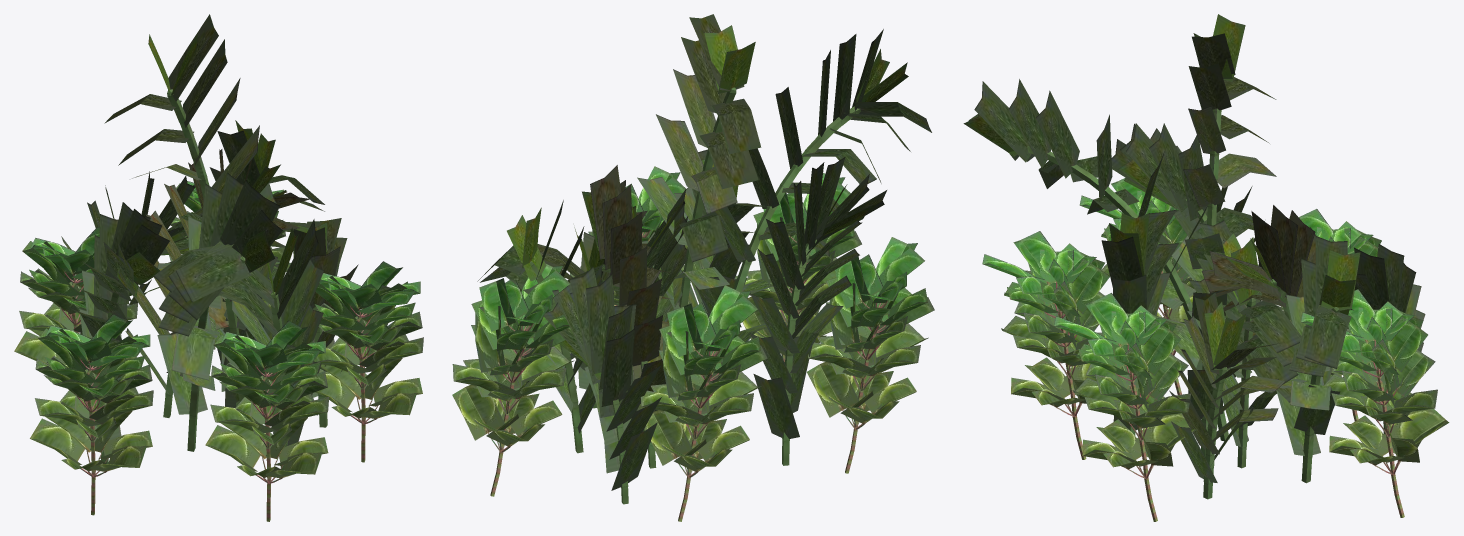
File: plantas9.fbx
The picture shows the model from 3 angles, left to right: view 1: azimuth 30°, elevation 25°; view 2: azimuth 150°, elevation 25°; view 3: azimuth 270°, elevation 25°; orthographic projection. The views are drawn at different scales.
Visible parts, largest first — view 1: plantas9; view 2: plantas9; view 3: plantas9.
Boxes of the visible parts, bbox=[...] form: plantas9: bbox=[14, 14, 423, 521]; plantas9: bbox=[452, 14, 934, 521]; plantas9: bbox=[963, 14, 1449, 521].
Size of the model in its own units: 45.48 by 53.18 by 54.07.
